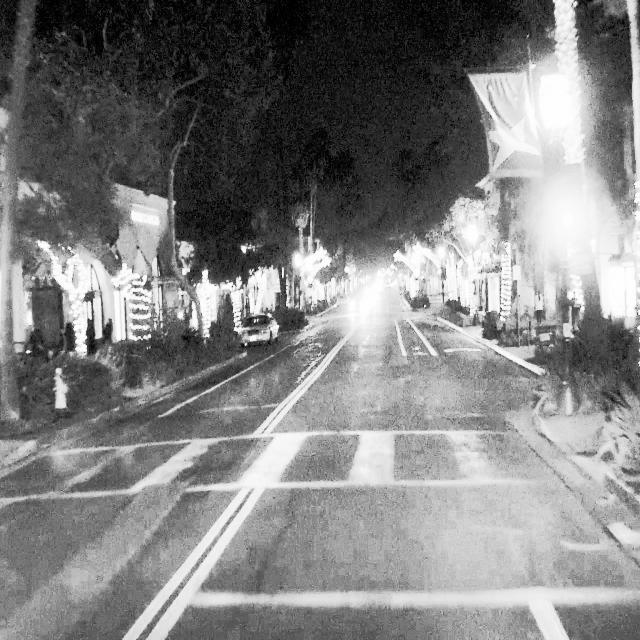Light: (539, 72, 572, 132), (555, 201, 575, 237)
Tree: (547, 5, 602, 356), (0, 0, 40, 434)
